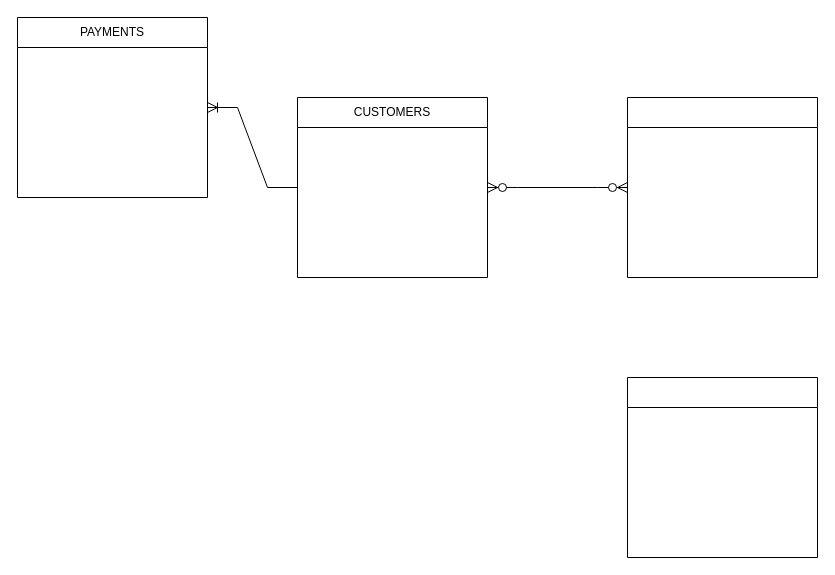
Some shapes in this 835 by 575 pixel diagram are drawn without their labels. Each missing label, with the centre of its shape:
EMPLOYEES: pixel 722 187
OFFICES: pixel 722 467
